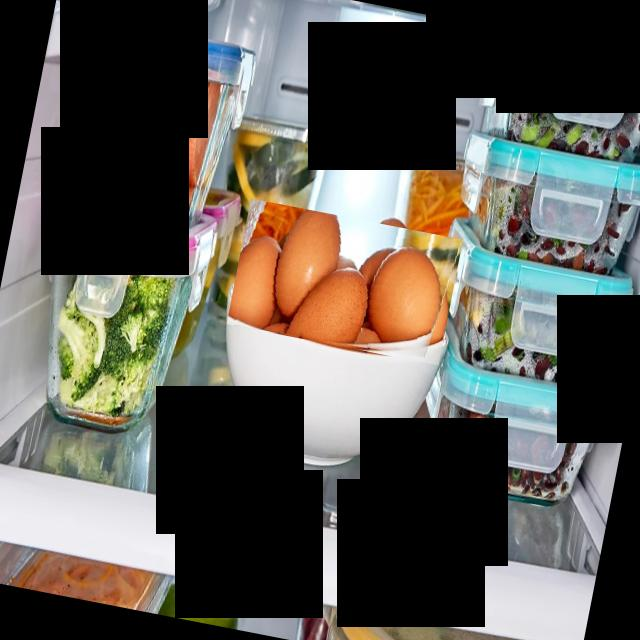eggs: (227, 198, 463, 366)
